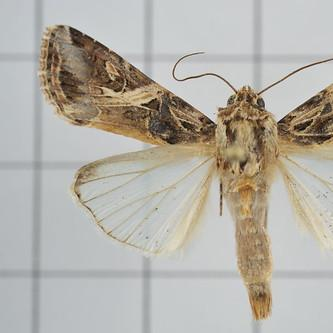Spodoptera litura: (39, 24, 333, 320)
